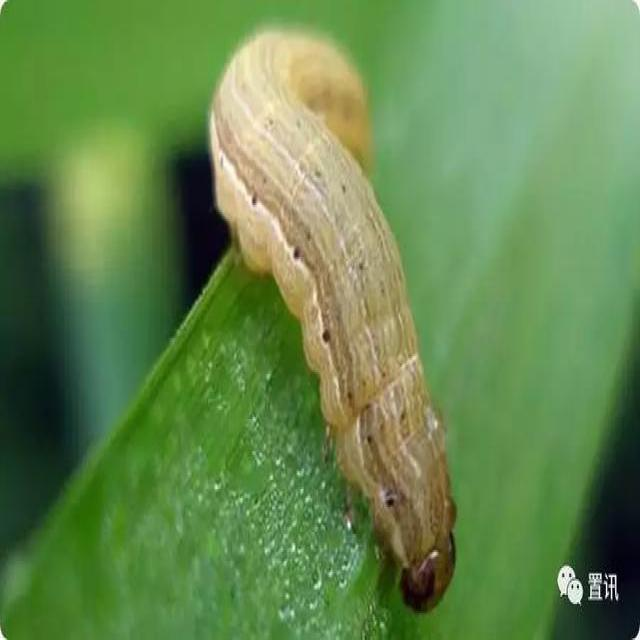armyworm: (198, 17, 467, 621)
